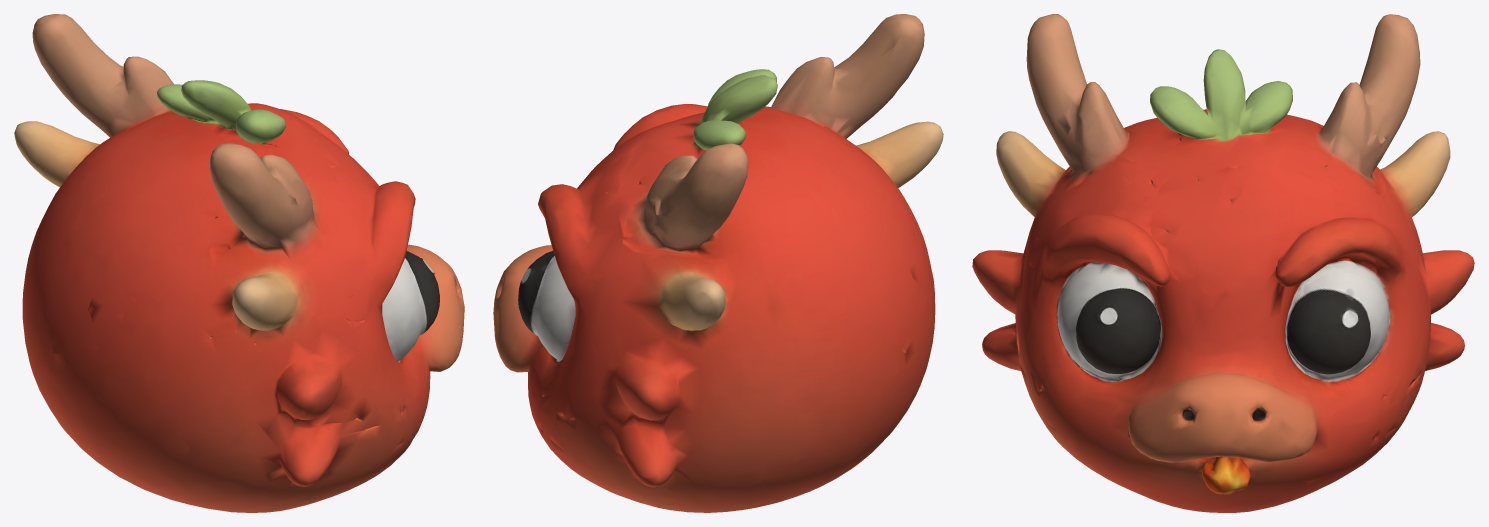
Rendered from head.glb.
The picture shows the model from 3 angles, left to right: view 1: azimuth 30°, elevation 25°; view 2: azimuth 150°, elevation 25°; view 3: azimuth 270°, elevation 25°; orthographic projection. The views are drawn at different scales.
Visible parts, largest first — view 1: tripo_node_d1444b83-dd87-4196-ba27-0ca2facec651; view 2: tripo_node_d1444b83-dd87-4196-ba27-0ca2facec651; view 3: tripo_node_d1444b83-dd87-4196-ba27-0ca2facec651.
Part boxes in pixels (x1,y1,x2,y2): tripo_node_d1444b83-dd87-4196-ba27-0ca2facec651: [14, 14, 464, 512]; tripo_node_d1444b83-dd87-4196-ba27-0ca2facec651: [493, 14, 943, 512]; tripo_node_d1444b83-dd87-4196-ba27-0ca2facec651: [972, 14, 1474, 512].
Size of the model in its own units: 0.8979 by 0.9176 by 1.
Materials: 1 (1 with a texture image).
